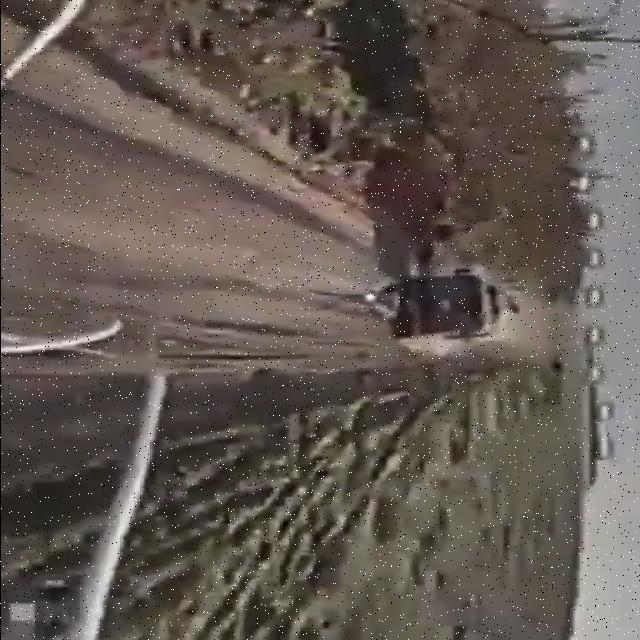TRUCK: (391, 274, 525, 348)
